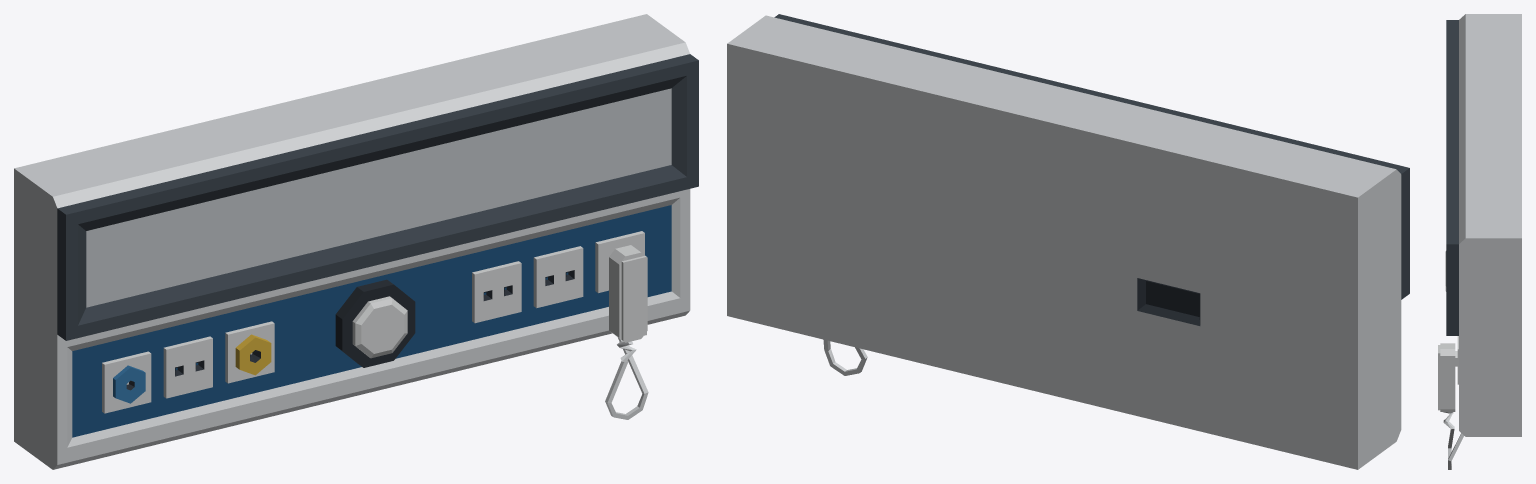
Rendered from bed-head-service-panel-67f6f6.glb.
3 views of the same model, side by side, from view 1: azimuth 30°, elevation 25°; view 2: azimuth 150°, elevation 25°; view 3: azimuth 270°, elevation 25° (orthographic). The views are drawn at different scales.
Parts seen in each view (by area): view 1: panel, handset; view 2: panel; view 3: panel, handset.
Part boxes in pixels (<box>): panel: <box>14,14,698,469</box>; handset: <box>605,245,648,419</box>; panel: <box>727,14,1409,469</box>; panel: <box>1445,14,1521,436</box>; handset: <box>1438,343,1463,469</box>.
Bounding box in the file's own units: 1.6 × 0.8503 × 0.253.
